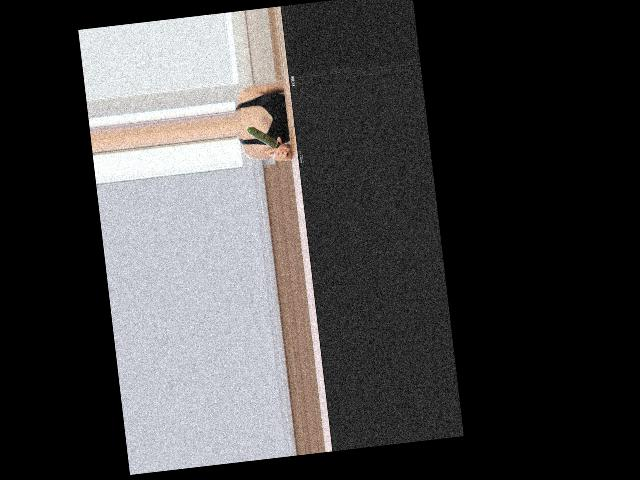cucumber: (245, 122, 289, 160)
